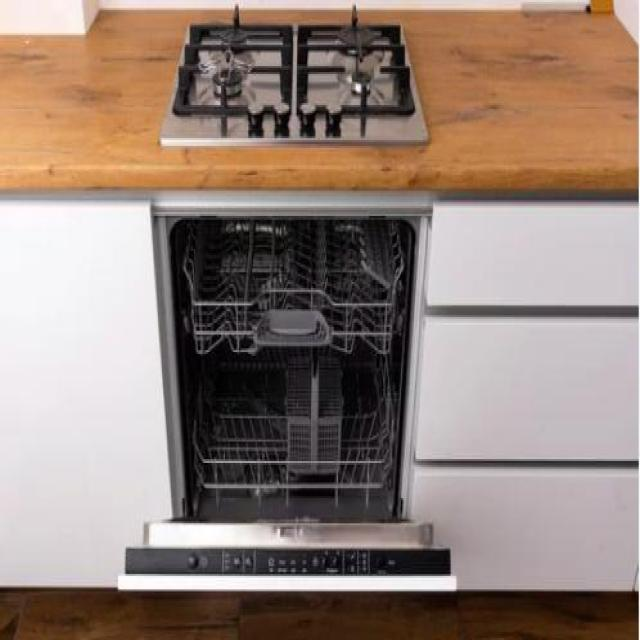dishwasher: (114, 183, 462, 599)
